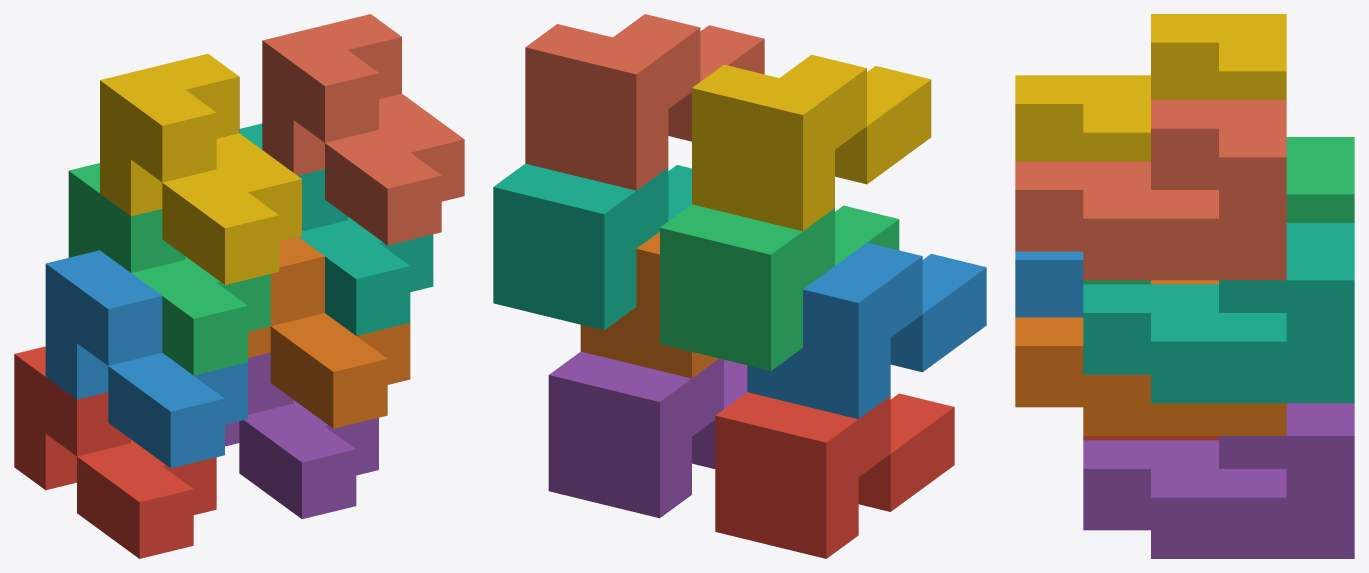
File: tiling.obj
The picture shows the model from 3 angles, left to right: view 1: azimuth 30°, elevation 25°; view 2: azimuth 150°, elevation 25°; view 3: azimuth 270°, elevation 25°; orthographic projection. The views are drawn at different scales.
Visible parts, largest first — view 1: copy_1_domain_4, copy_1_domain_8, copy_1_domain_2, copy_1_domain_1, copy_1_domain_3, copy_1_domain_6, copy_1_domain_5, copy_1_domain_7; view 2: copy_1_domain_4, copy_1_domain_1, copy_1_domain_8, copy_1_domain_2, copy_1_domain_3, copy_1_domain_5, copy_1_domain_7, copy_1_domain_6; view 3: copy_1_domain_8, copy_1_domain_7, copy_1_domain_5, copy_1_domain_4, copy_1_domain_6, copy_1_domain_3, copy_1_domain_2, copy_1_domain_1.
Part boxes in pixels (bbox=[...]): copy_1_domain_4: bbox=[100, 54, 301, 284]; copy_1_domain_8: bbox=[262, 14, 464, 245]; copy_1_domain_2: bbox=[45, 250, 247, 468]; copy_1_domain_1: bbox=[14, 346, 216, 558]; copy_1_domain_3: bbox=[68, 163, 270, 375]; copy_1_domain_6: bbox=[248, 237, 410, 428]; copy_1_domain_5: bbox=[225, 352, 378, 519]; copy_1_domain_7: bbox=[239, 123, 433, 335]; copy_1_domain_4: bbox=[692, 54, 931, 231]; copy_1_domain_1: bbox=[715, 392, 954, 558]; copy_1_domain_8: bbox=[525, 14, 764, 190]; copy_1_domain_2: bbox=[747, 242, 986, 419]; copy_1_domain_3: bbox=[660, 204, 899, 370]; copy_1_domain_5: bbox=[548, 351, 747, 518]; copy_1_domain_7: bbox=[493, 163, 691, 330]; copy_1_domain_6: bbox=[580, 232, 718, 378]; copy_1_domain_8: bbox=[1015, 100, 1286, 280]; copy_1_domain_7: bbox=[1083, 223, 1354, 403]; copy_1_domain_5: bbox=[1083, 403, 1354, 558]; copy_1_domain_4: bbox=[1015, 14, 1286, 161]; copy_1_domain_6: bbox=[1015, 280, 1286, 435]; copy_1_domain_3: bbox=[1083, 137, 1354, 284]; copy_1_domain_2: bbox=[1015, 251, 1083, 317]; copy_1_domain_1: bbox=[1083, 436, 1218, 440].
Size of the model in its own units: 6 by 7 by 5.
